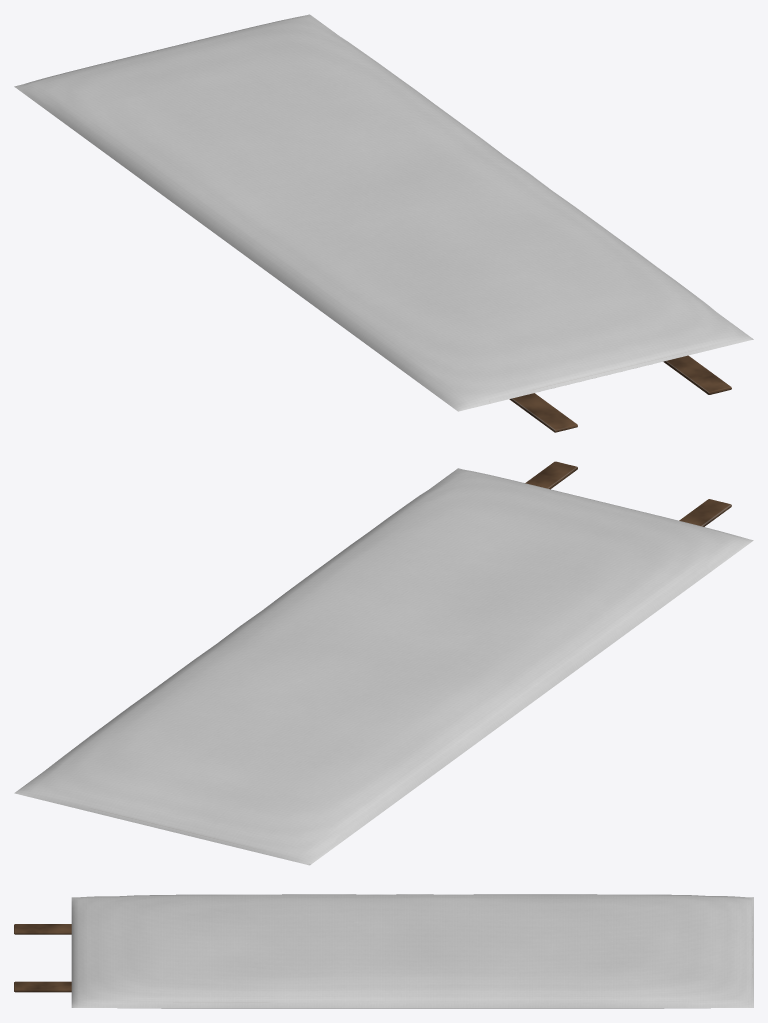
The model's file is bed_bedroll.glb.
The picture shows the model from 3 angles, top to bottom: view 1: azimuth 30°, elevation 25°; view 2: azimuth 150°, elevation 25°; view 3: azimuth 270°, elevation 25°; orthographic projection. The views are drawn at different scales.
Parts seen in each view (by area): view 1: bed_bedroll; view 2: bed_bedroll; view 3: bed_bedroll.
Boxes of the visible parts, left/top/right/bottom form: bed_bedroll: left=14, top=14, right=753, bottom=432; bed_bedroll: left=14, top=461, right=753, bottom=865; bed_bedroll: left=14, top=894, right=753, bottom=1008.
Size of the model in its own units: 0.5 by 0.0412 by 1.41.
2 materials, 2 textured.
